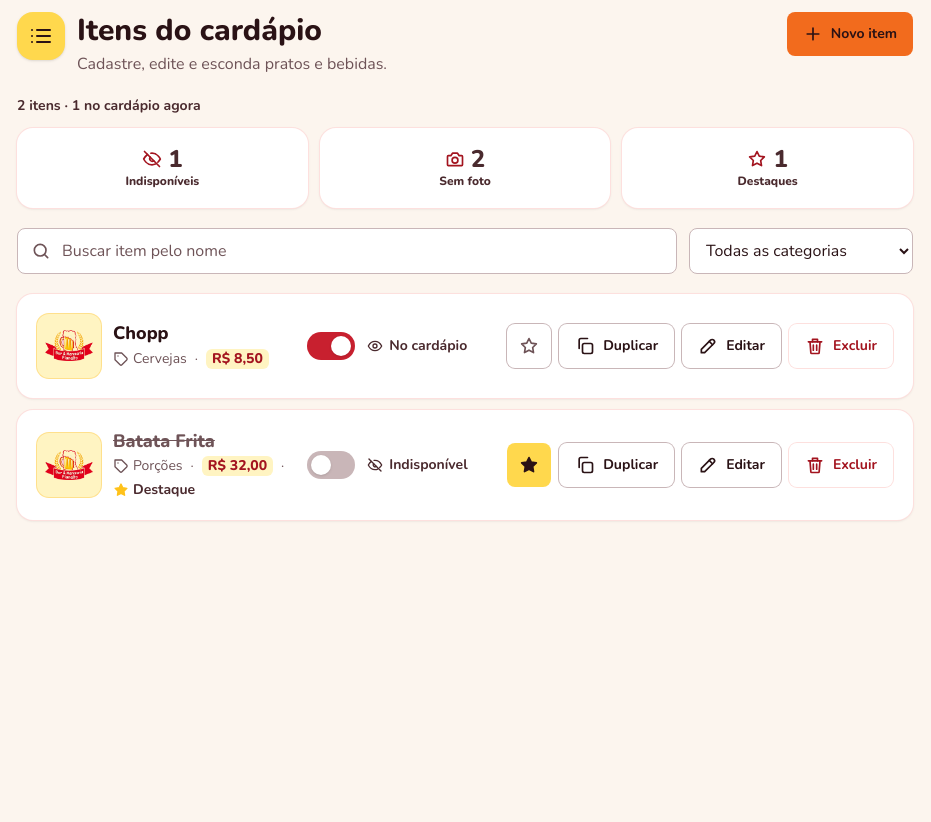
Test case: ItemsPage (proprietário) › estrela liga/desliga o destaque enviando o item completo
Click the button named "Destacar Chopp".
click(529, 346)  # box [507, 324, 551, 368]
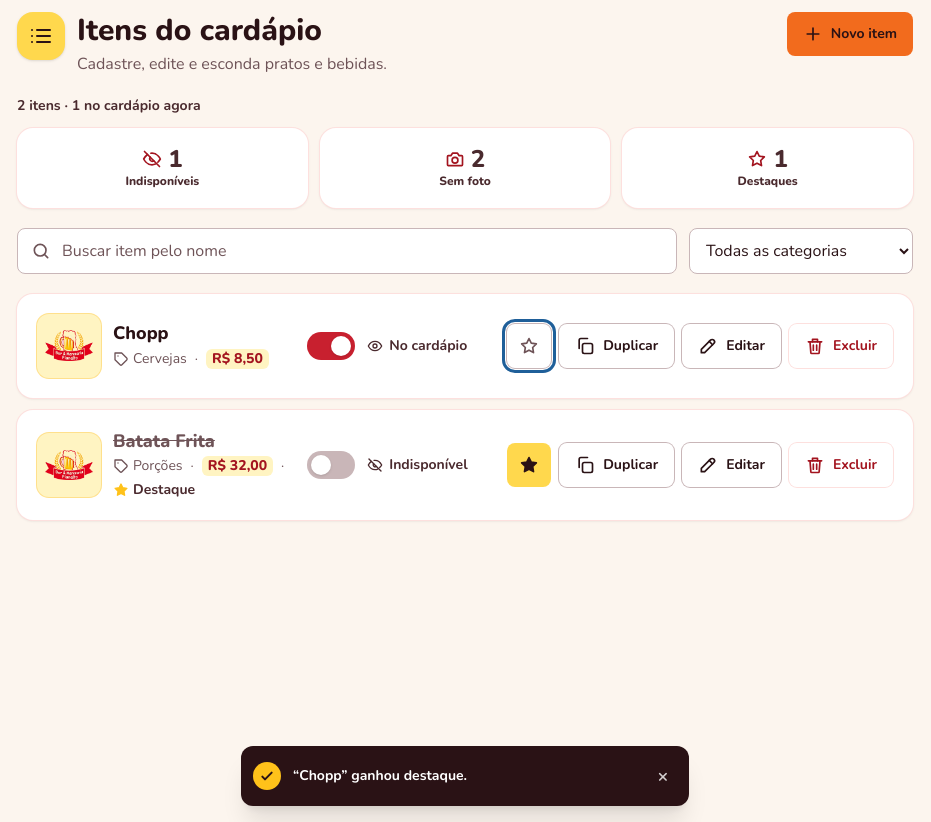
Now the text "“Chopp” ganhou destaque." is shown, box [293, 766, 467, 785]
